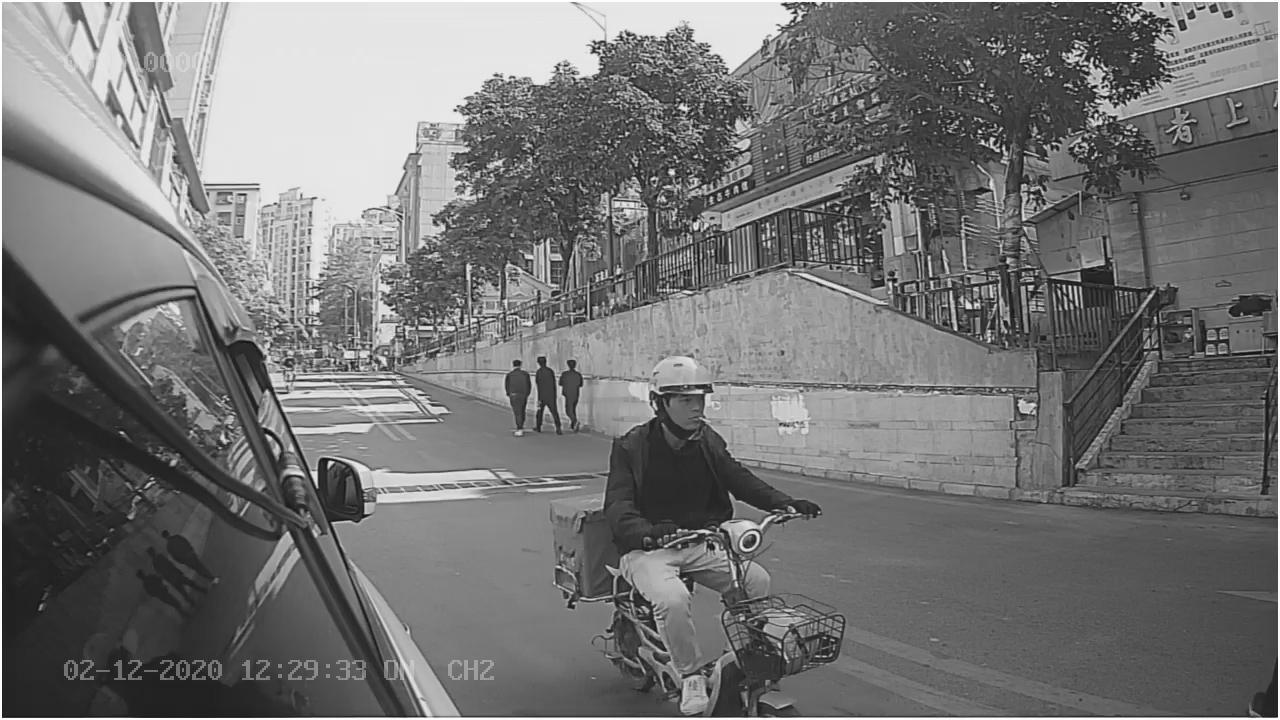person: (604, 349, 823, 517)
